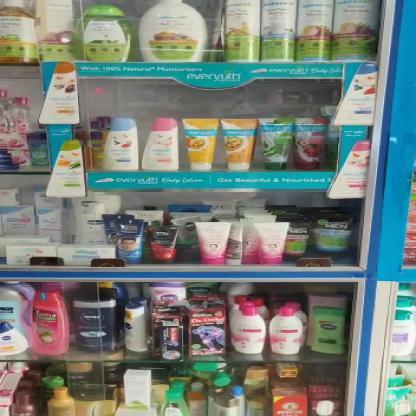Everyuth Naturals Body Lotion Rejuvenating Flora 200ml: (144, 114, 182, 169)
Everyuth Naturals Body Lotion Sun Care Berries SPF 15 200ml: (100, 114, 140, 173)
